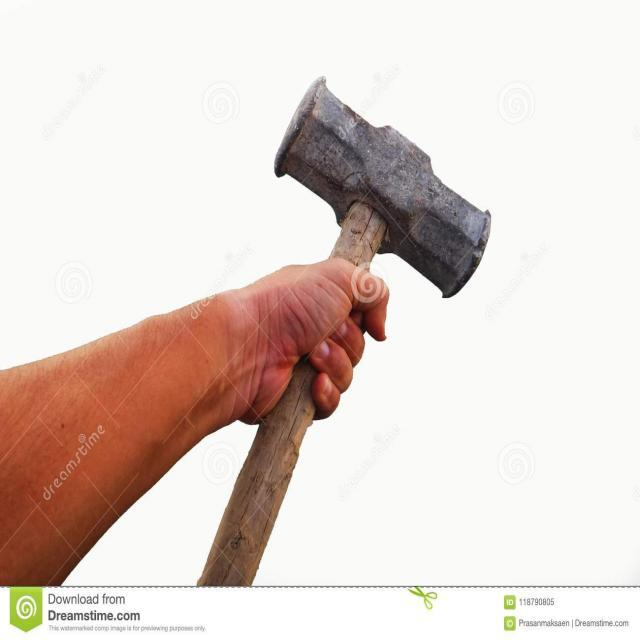hammer: (196, 64, 498, 588)
